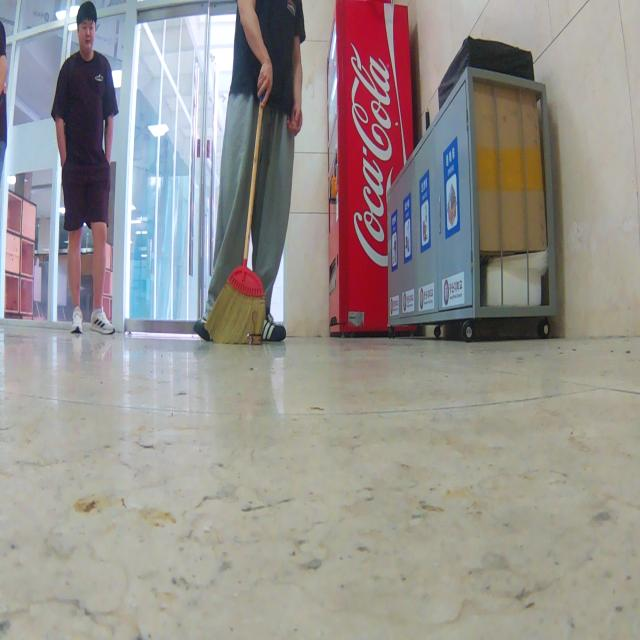target: (247, 311, 263, 346)
